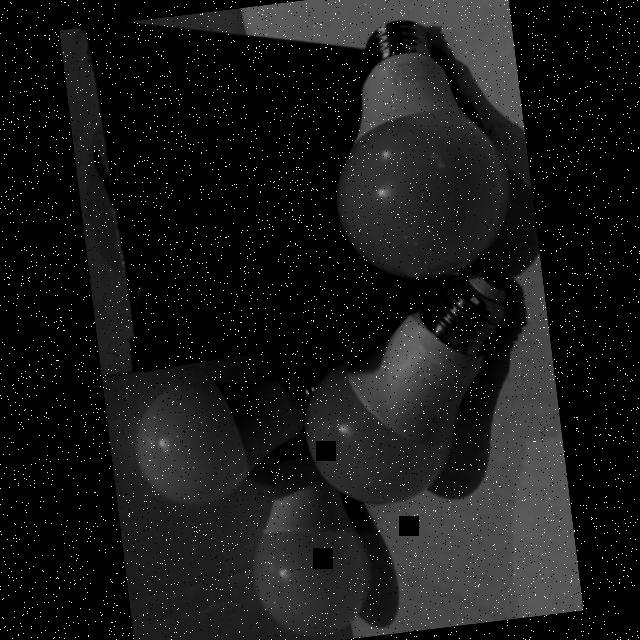light_bulb: (306, 8, 524, 290), (285, 274, 529, 518), (235, 441, 378, 640)
